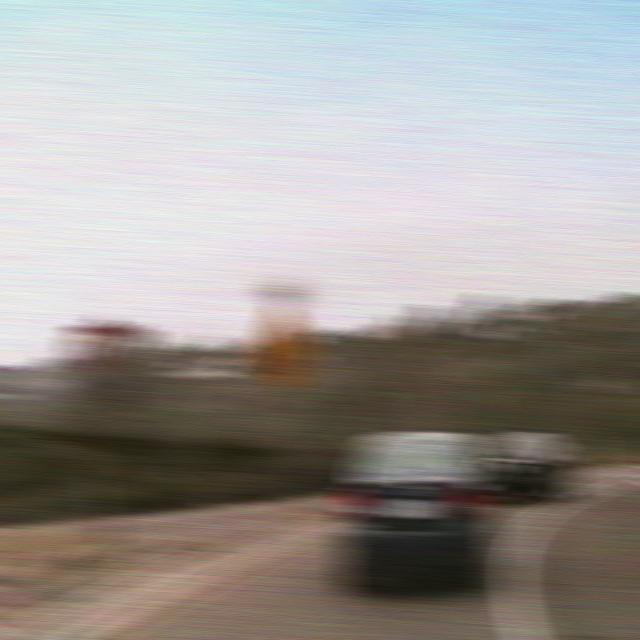yield: (66, 320, 128, 379)
